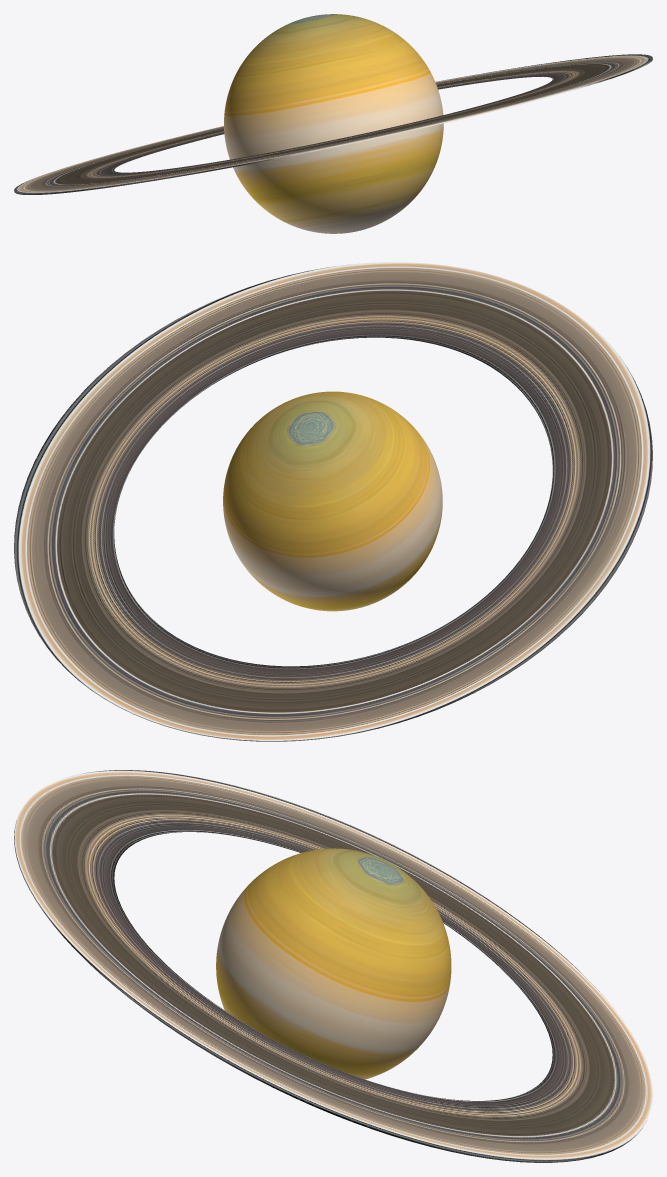
The picture shows the model from 3 angles, top to bottom: view 1: azimuth 30°, elevation 25°; view 2: azimuth 150°, elevation 25°; view 3: azimuth 270°, elevation 25°; orthographic projection. The views are drawn at different scales.
Parts seen in each view (by area): view 1: Saturn_2; view 2: Saturn_2; view 3: Saturn_2.
Part boxes in pixels (<box>): Saturn_2: <box>14,14,652,233</box>; Saturn_2: <box>14,262,652,741</box>; Saturn_2: <box>14,770,652,1162</box>.
Bounding box in the file's own units: 3.32 × 1.36 × 3.04.
Materials: 2 (2 with a texture image).
